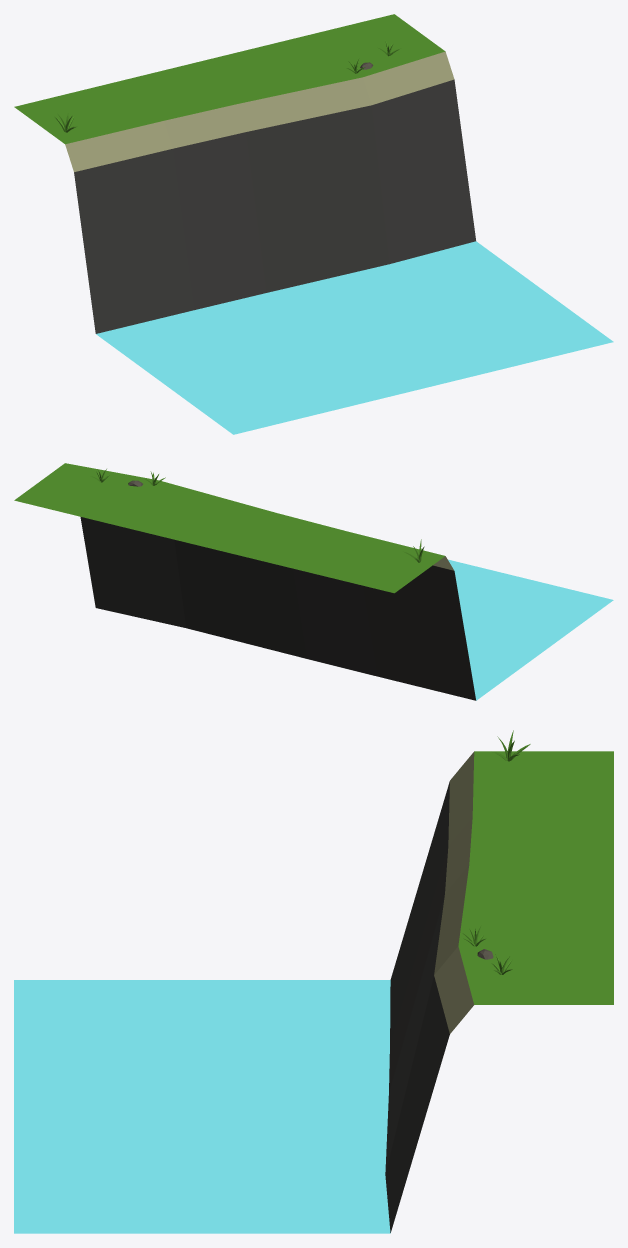
Rendered from Water_Straight.fbx.
The picture shows the model from 3 angles, top to bottom: view 1: azimuth 30°, elevation 25°; view 2: azimuth 150°, elevation 25°; view 3: azimuth 270°, elevation 25°; orthographic projection. The views are drawn at different scales.
Visible parts, largest first — view 1: Water_Straight; view 2: Water_Straight; view 3: Water_Straight.
Boxes of the visible parts, <box> form: Water_Straight: <box>14,14,613,434</box>; Water_Straight: <box>14,463,613,700</box>; Water_Straight: <box>14,730,613,1233</box>.
Size of the model in its own units: 500 by 234 by 499.
